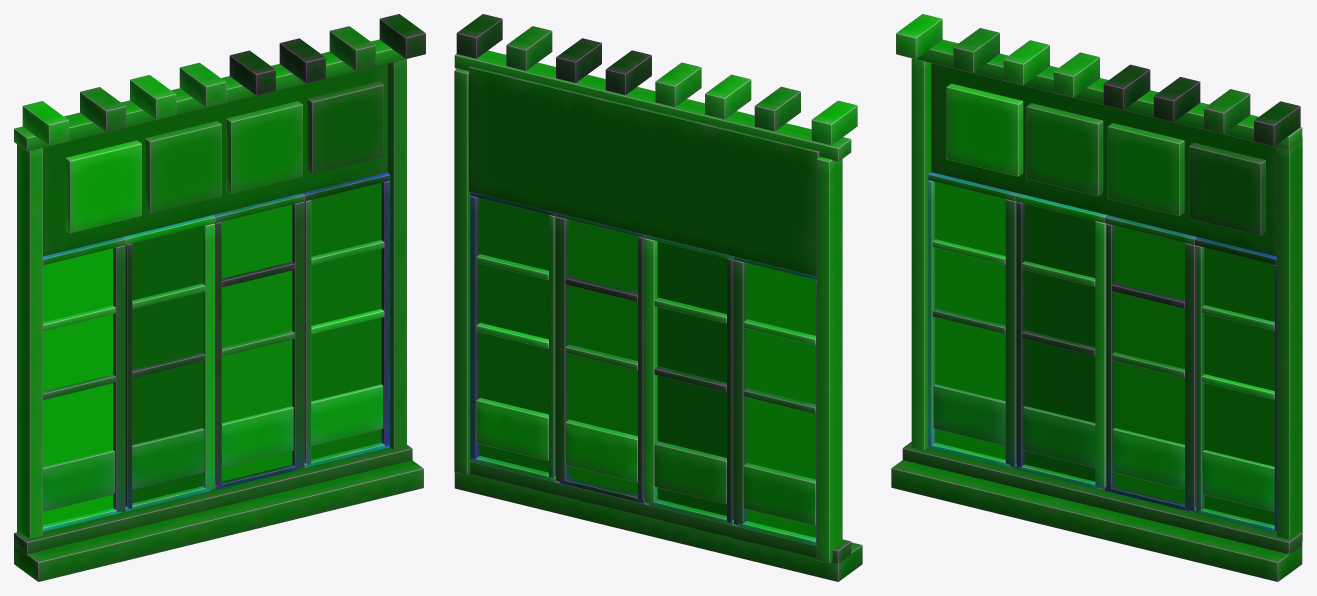
File: door_400x300_08.fbx
The picture shows the model from 3 angles, left to right: view 1: azimuth 30°, elevation 25°; view 2: azimuth 150°, elevation 25°; view 3: azimuth 330°, elevation 25°; orthographic projection.
Visible parts, largest first — view 1: door_400x300_08; view 2: door_400x300_08; view 3: door_400x300_08.
Part boxes in pixels (x1,y1,x2,y2): door_400x300_08: [14, 14, 425, 581]; door_400x300_08: [454, 14, 862, 581]; door_400x300_08: [891, 14, 1302, 581].
Bounding box in the file's own units: 2.62 × 2.97 × 0.3609.
